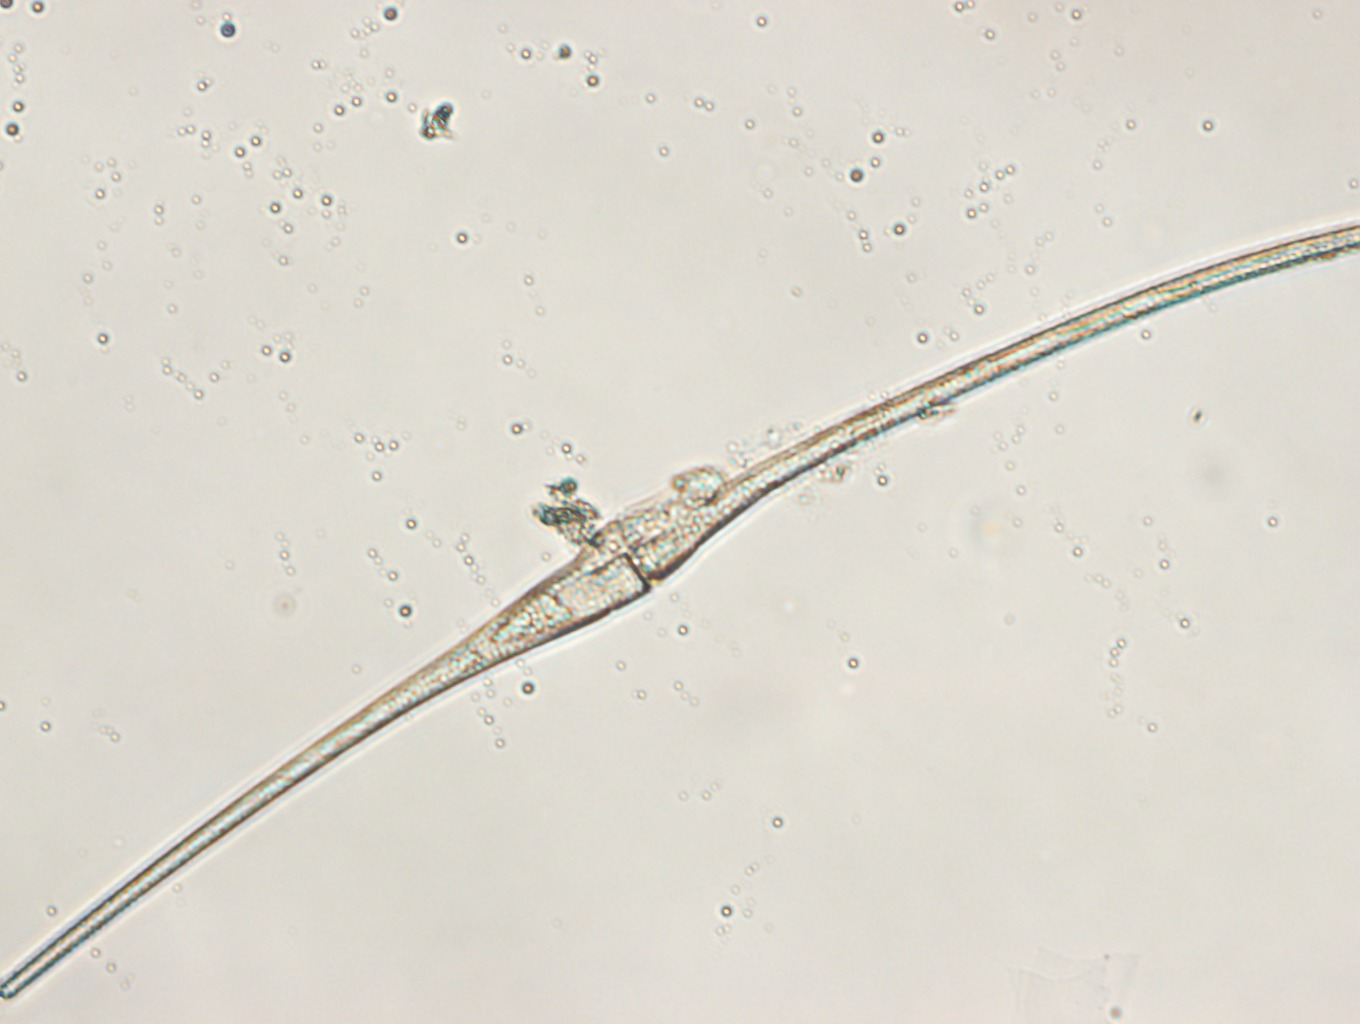ceratium fusus: (1, 221, 1360, 1002)
